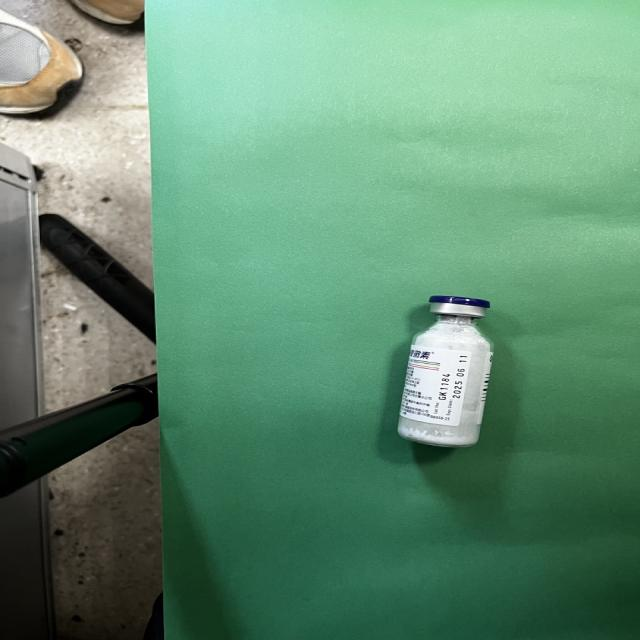Vials: (397, 296, 494, 449)
